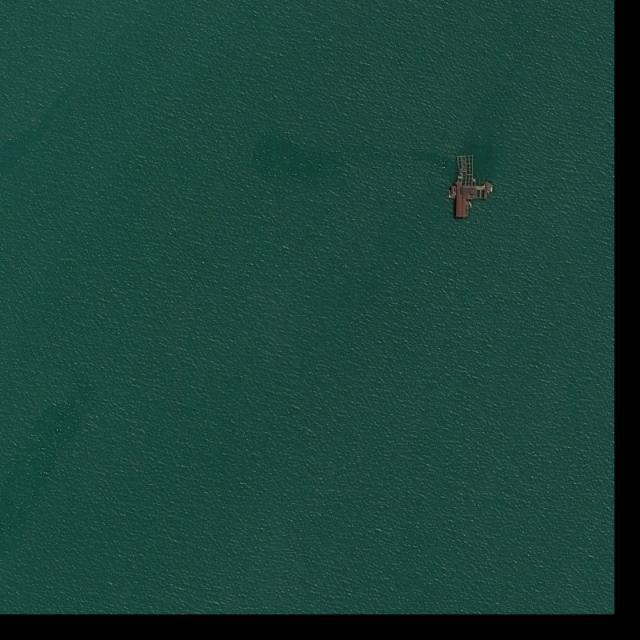ship: (467, 202, 474, 210), (490, 185, 494, 193), (449, 189, 452, 199)
